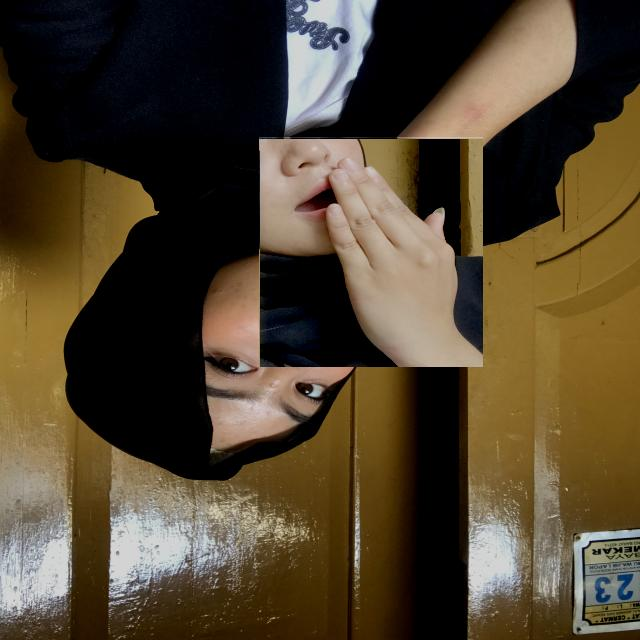ngantuk: (259, 136, 483, 366)
